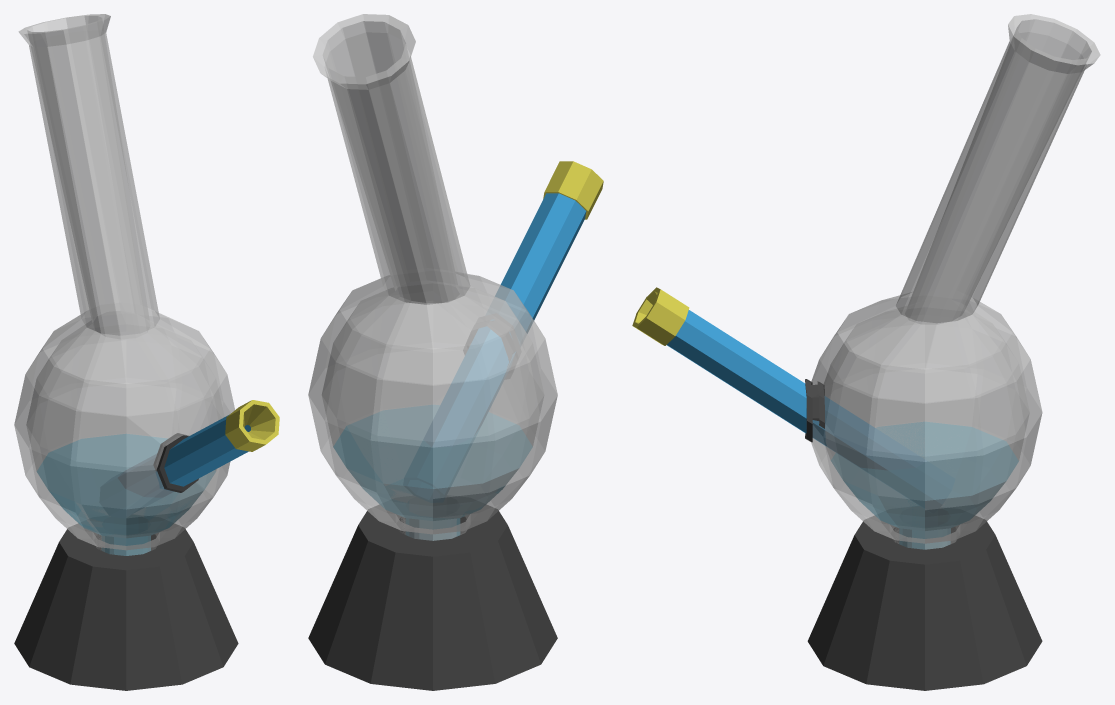
The model's file is Bong.fbx.
3 renders of one model, left to right at view 1: azimuth 30°, elevation 25°; view 2: azimuth 150°, elevation 25°; view 3: azimuth 270°, elevation 25°, orthographic. The views are drawn at different scales.
Visible parts, largest first — view 1: Bong, Water, Stem, Cone Piece; view 2: Bong, Water, Stem, Cone Piece; view 3: Bong, Water, Stem, Cone Piece.
Part boxes in pixels (<box>): Bong: <box>14,14,238,690</box>; Water: <box>37,434,215,555</box>; Stem: <box>118,415,250,497</box>; Cone Piece: <box>225,400,279,451</box>; Bong: <box>308,14,557,690</box>; Water: <box>334,405,531,540</box>; Stem: <box>423,193,586,447</box>; Cone Piece: <box>543,161,603,219</box>; Bong: <box>805,14,1100,690</box>; Water: <box>831,422,1018,549</box>; Stem: <box>667,310,926,470</box>; Cone Piece: <box>632,287,689,345</box>.
Bounding box in the file's own units: 1 × 2.9 × 1.99.
